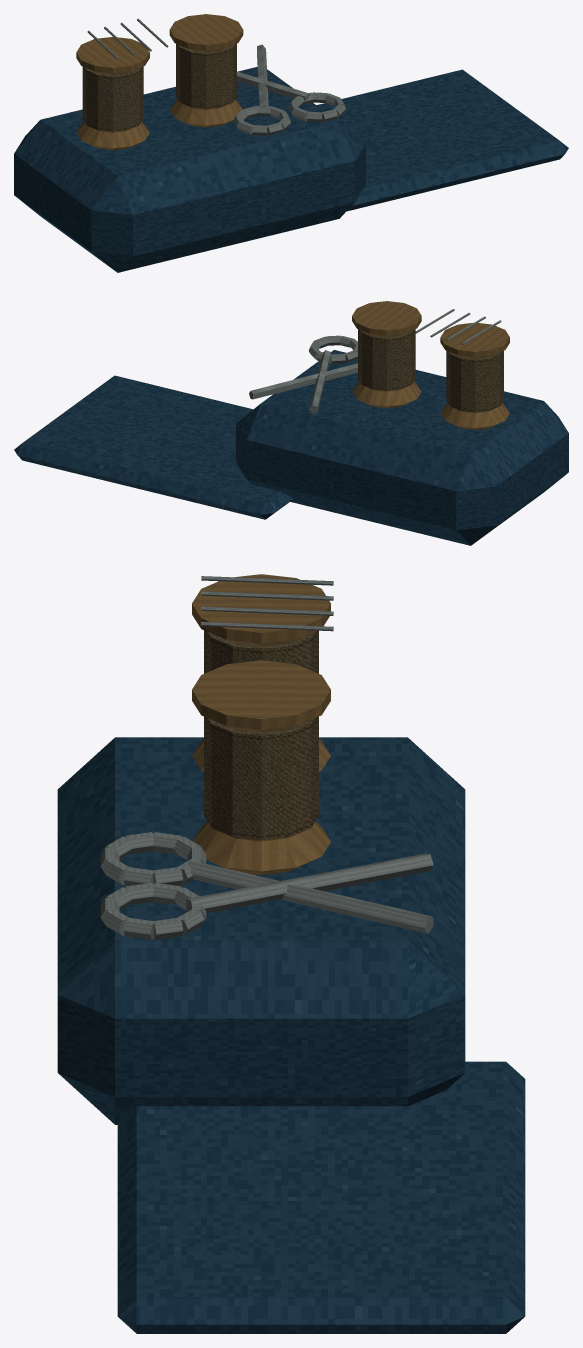
File: level_story_sewing_tin.glb
3 views of the same model, one above another, from view 1: azimuth 30°, elevation 25°; view 2: azimuth 150°, elevation 25°; view 3: azimuth 270°, elevation 25° (orthographic). The views are drawn at different scales.
Visible parts, largest first — view 1: level_story_sewing_tin; view 2: level_story_sewing_tin; view 3: level_story_sewing_tin.
Boxes of the visible parts, x1,y1,x2,y2 form: level_story_sewing_tin: [14, 14, 568, 272]; level_story_sewing_tin: [14, 301, 568, 545]; level_story_sewing_tin: [57, 574, 525, 1333].
Size of the model in its own units: 0.44 by 0.168 by 0.195.
4 materials, 4 textured.
